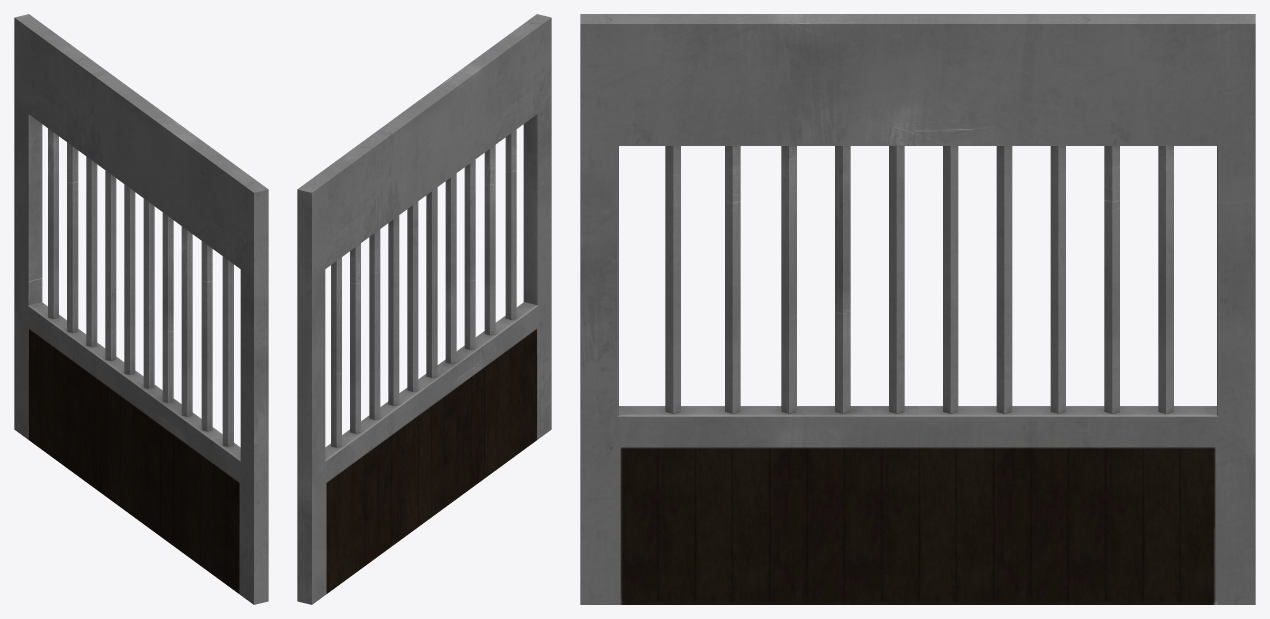
The model's file is StableBox_Wall2_LP.glb.
3 renders of one model, left to right at view 1: azimuth 30°, elevation 25°; view 2: azimuth 150°, elevation 25°; view 3: azimuth 270°, elevation 25°, orthographic. The views are drawn at different scales.
Parts seen in each view (by area): view 1: StableBox_Wall2_LP; view 2: StableBox_Wall2_LP; view 3: StableBox_Wall2_LP.
Boxes of the visible parts, x1,y1,x2,y2 form: StableBox_Wall2_LP: (14,14,268,604); StableBox_Wall2_LP: (297,14,551,604); StableBox_Wall2_LP: (580,14,1255,604).
Size of the model in its own units: 0.1542 by 4.17 by 4.39.
2 materials, 2 textured.
